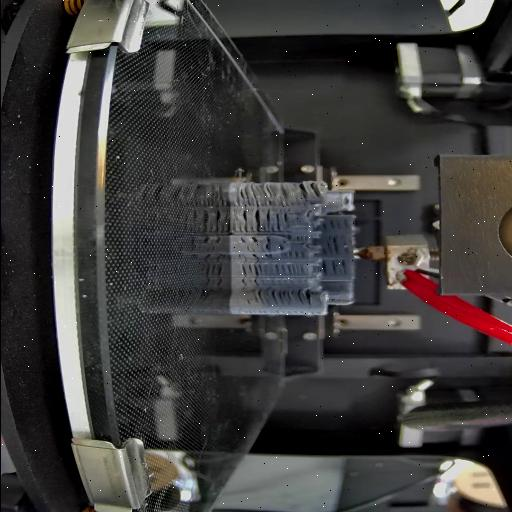cracks: (235, 182, 287, 208), (250, 287, 312, 307), (230, 209, 272, 232), (297, 180, 321, 203), (318, 260, 348, 278), (322, 238, 344, 256), (240, 264, 268, 278), (272, 212, 291, 232), (274, 264, 304, 276), (320, 218, 346, 230), (262, 236, 274, 259), (237, 254, 259, 262), (286, 251, 308, 259), (286, 235, 308, 242), (238, 236, 256, 244), (240, 280, 262, 286), (276, 244, 286, 252)
